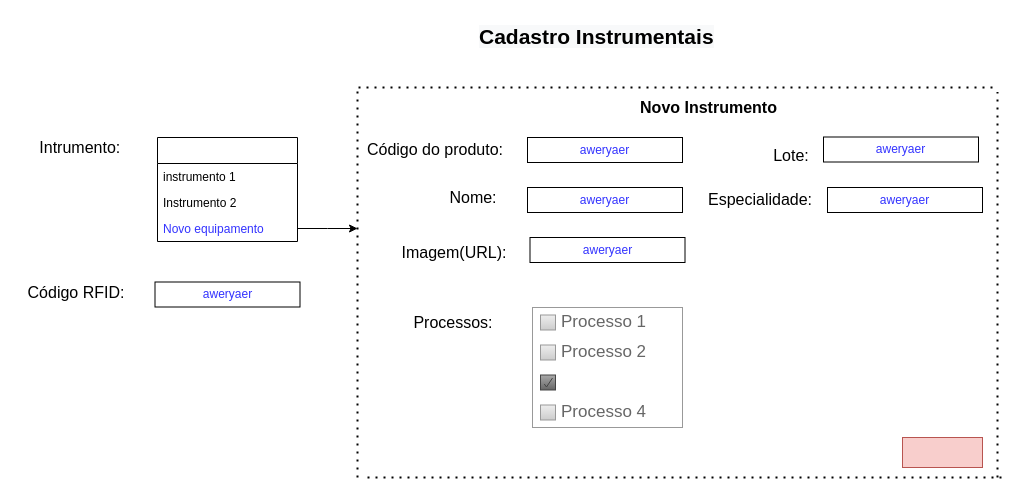
The diagram is 1026 pixels wide and 496 high, and some of its shapes have lost their labels. Each missing label, with the box of its shape:
NONE: (156, 136, 298, 242)
Processo 3: (540, 374, 556, 390)
VOLTAR: (902, 436, 982, 468)
